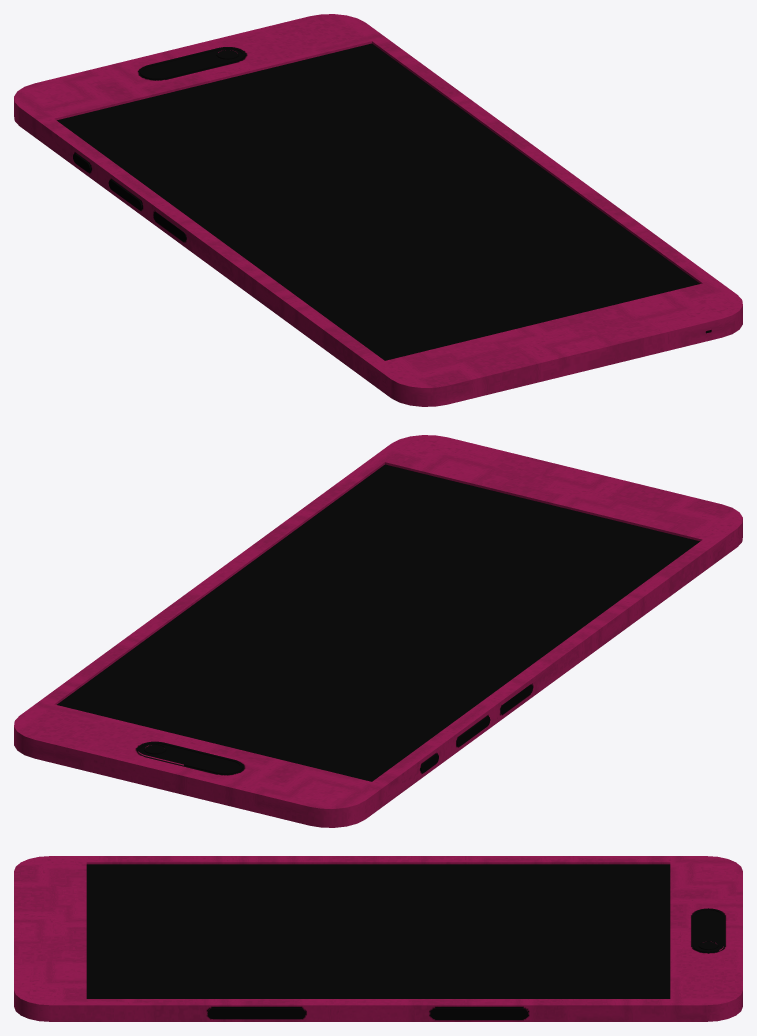
The model's file is GodSendPhone2.fbx.
3 renders of one model, top to bottom at view 1: azimuth 30°, elevation 25°; view 2: azimuth 150°, elevation 25°; view 3: azimuth 270°, elevation 25°, orthographic. The views are drawn at different scales.
Visible parts, largest first — view 1: Phone; view 2: Phone; view 3: Phone.
Boxes of the visible parts, x1,y1,x2,y2 form: Phone: (14, 14, 742, 406); Phone: (14, 435, 742, 827); Phone: (14, 856, 742, 1021).
Bounding box in the file's own units: 400 × 27.15 × 819.
Materials: 1 (1 with a texture image).
